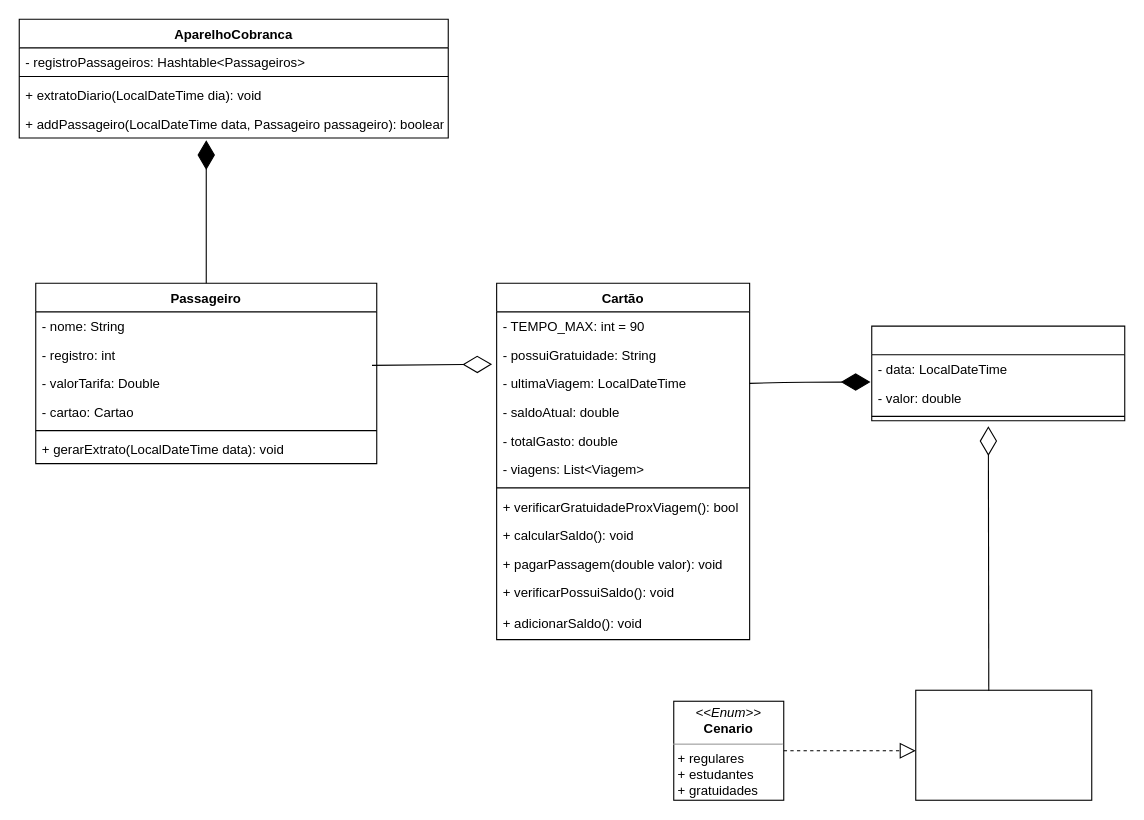
This 1144x820 diagram has some shape labels left out. The shapes that lost their labels are listed below. From the top down, each one's box as (x1, y1, x2, y2) in pixels, then its label:
(871, 325, 1125, 421): Viagem
(915, 689, 1092, 800): <<Interface>> Interface + valorTarifas()
